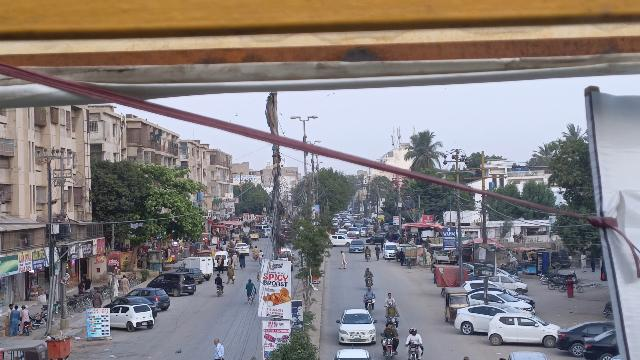Bike: (381, 338, 398, 359), (405, 345, 421, 360), (364, 297, 377, 312), (388, 316, 399, 331), (246, 290, 257, 304), (22, 321, 32, 336), (215, 285, 224, 299), (366, 275, 374, 287)
Car: (486, 308, 560, 347), (554, 316, 610, 354), (451, 303, 511, 335), (334, 307, 379, 345), (146, 271, 196, 297), (109, 304, 156, 331), (580, 326, 617, 358), (132, 285, 171, 311)
Person: (403, 328, 424, 346), (336, 248, 350, 274), (9, 304, 20, 337), (212, 335, 225, 360), (90, 288, 104, 309), (382, 323, 398, 339), (119, 271, 130, 294), (385, 302, 399, 316), (19, 305, 30, 322), (363, 286, 376, 298), (244, 278, 257, 290), (385, 292, 395, 304), (214, 273, 224, 285), (364, 267, 374, 276)
Rickshaw: (441, 286, 469, 323)
